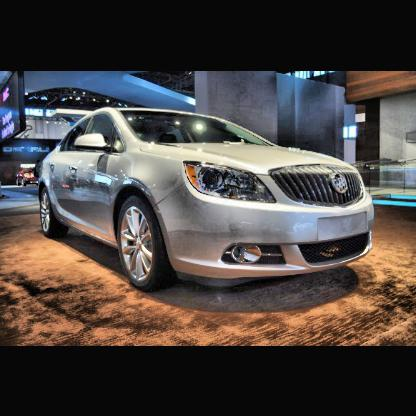Buick Verano Sedan 2012: (35, 104, 375, 289)
